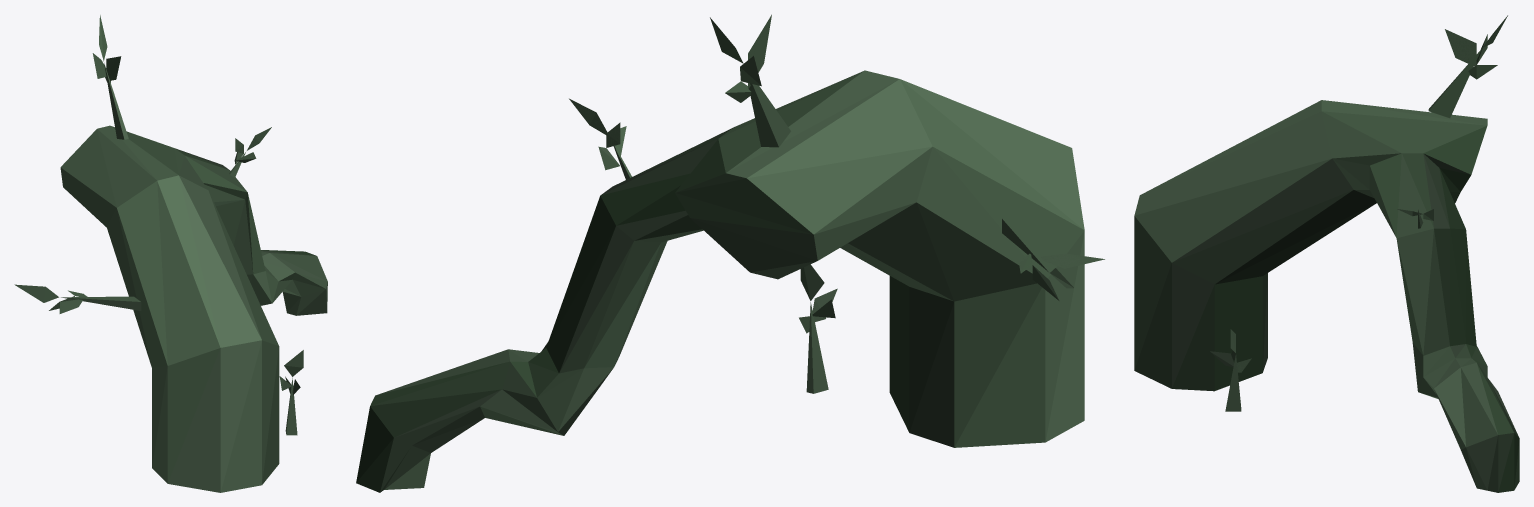
Rendered from roots4.fbx.
The picture shows the model from 3 angles, left to right: view 1: azimuth 30°, elevation 25°; view 2: azimuth 150°, elevation 25°; view 3: azimuth 270°, elevation 25°; orthographic projection. The views are drawn at different scales.
Visible parts, largest first — view 1: Object Roots 2024-03-15_11-54-18; view 2: Object Roots 2024-03-15_11-54-18; view 3: Object Roots 2024-03-15_11-54-18.
Part boxes in pixels (x1,y1,x2,y2): Object Roots 2024-03-15_11-54-18: [14, 15, 327, 492]; Object Roots 2024-03-15_11-54-18: [356, 14, 1104, 492]; Object Roots 2024-03-15_11-54-18: [1134, 15, 1519, 492].
Bounding box in the file's own units: 8700 × 7500 × 7200.
